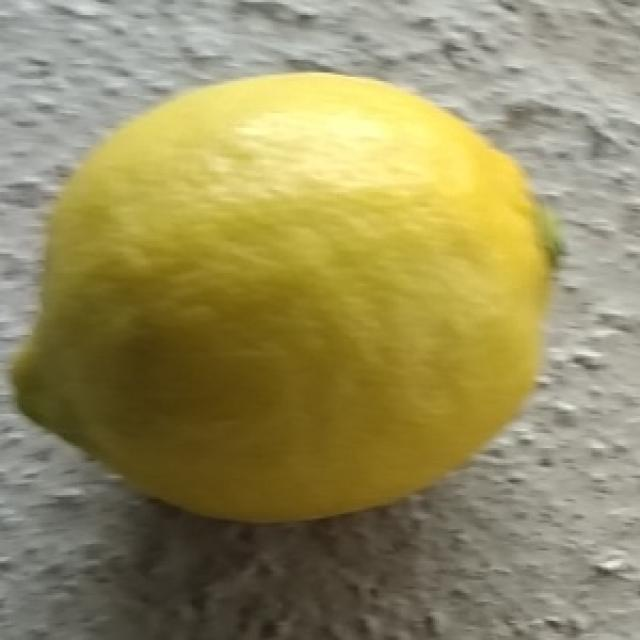Lemon: (11, 73, 567, 528)
